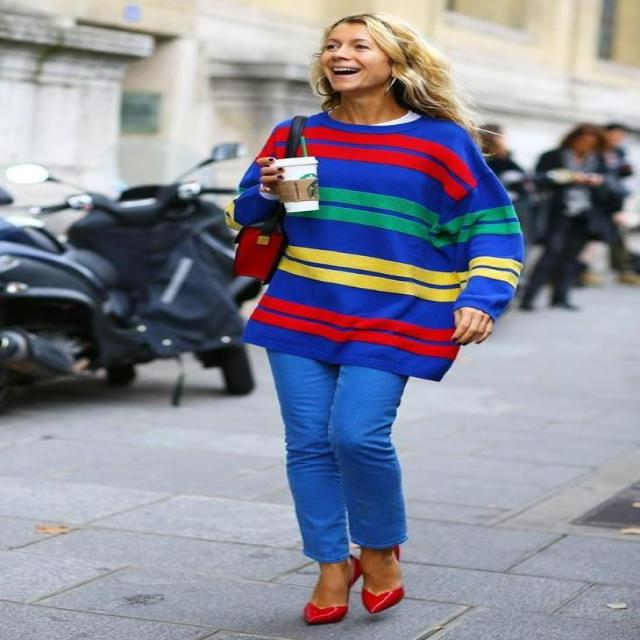pants: (264, 327, 406, 564)
sweater: (224, 108, 524, 382)
